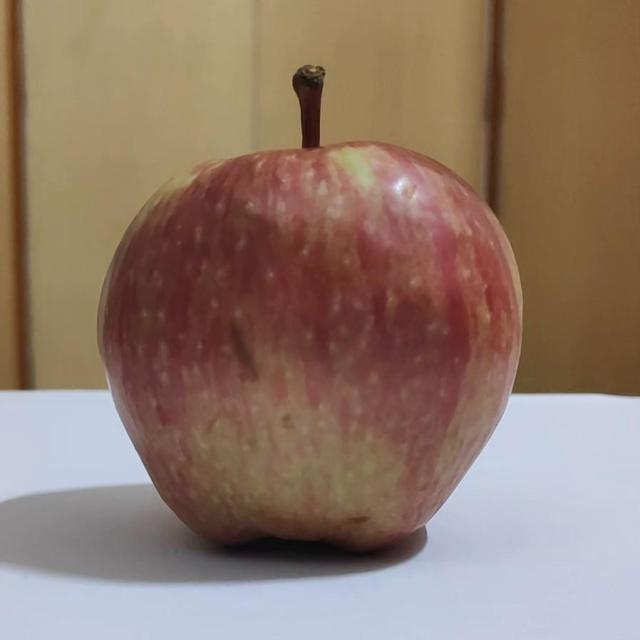Apple: (98, 66, 522, 547)
